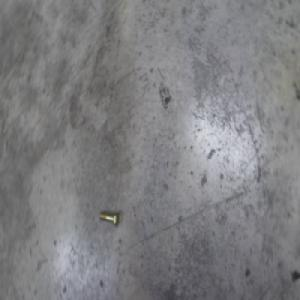Bolt: (100, 201, 121, 223)
